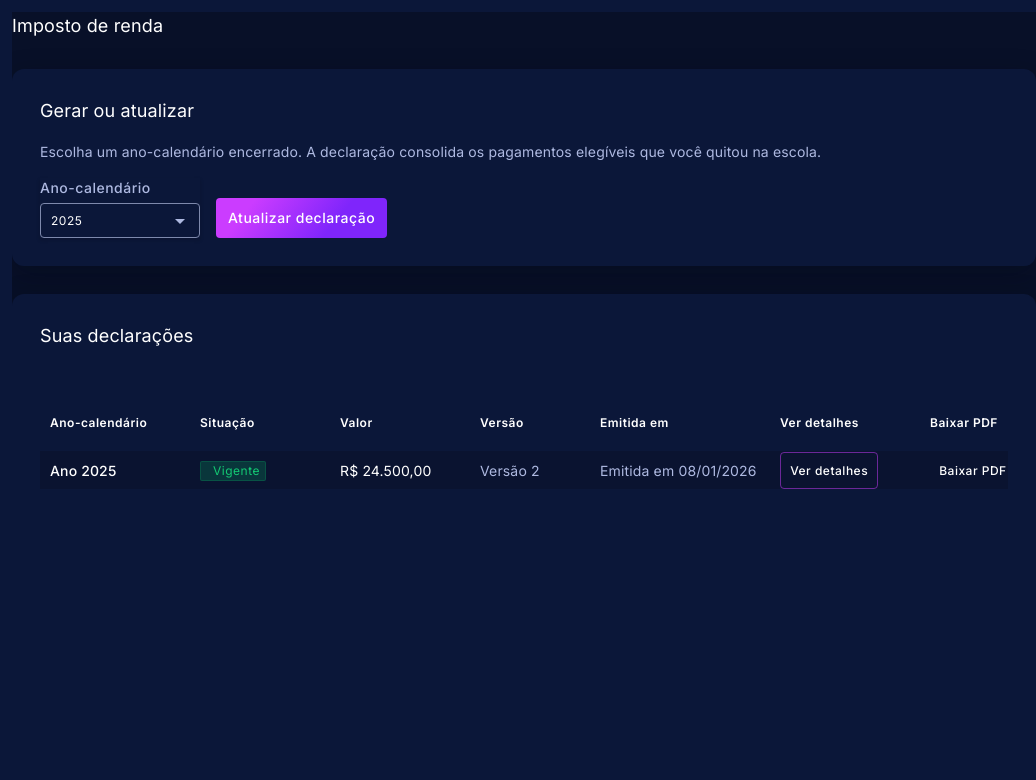
Test: MyTaxDeclarations › shows configuration incomplete state
Expected: the heading "Imposto de renda" is shown, [12, 12, 163, 41]
Click the dropdown named "ano-calendário": (67, 221) [51, 213, 82, 228]
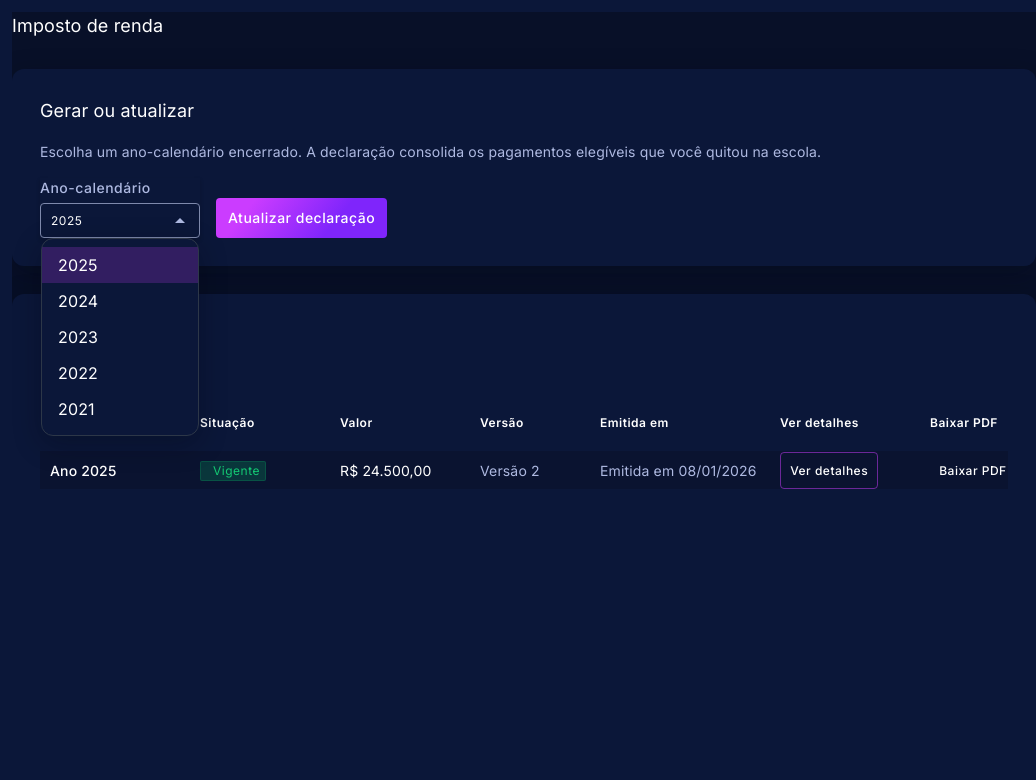
Click the option "2023": (78, 337) [58, 327, 98, 347]
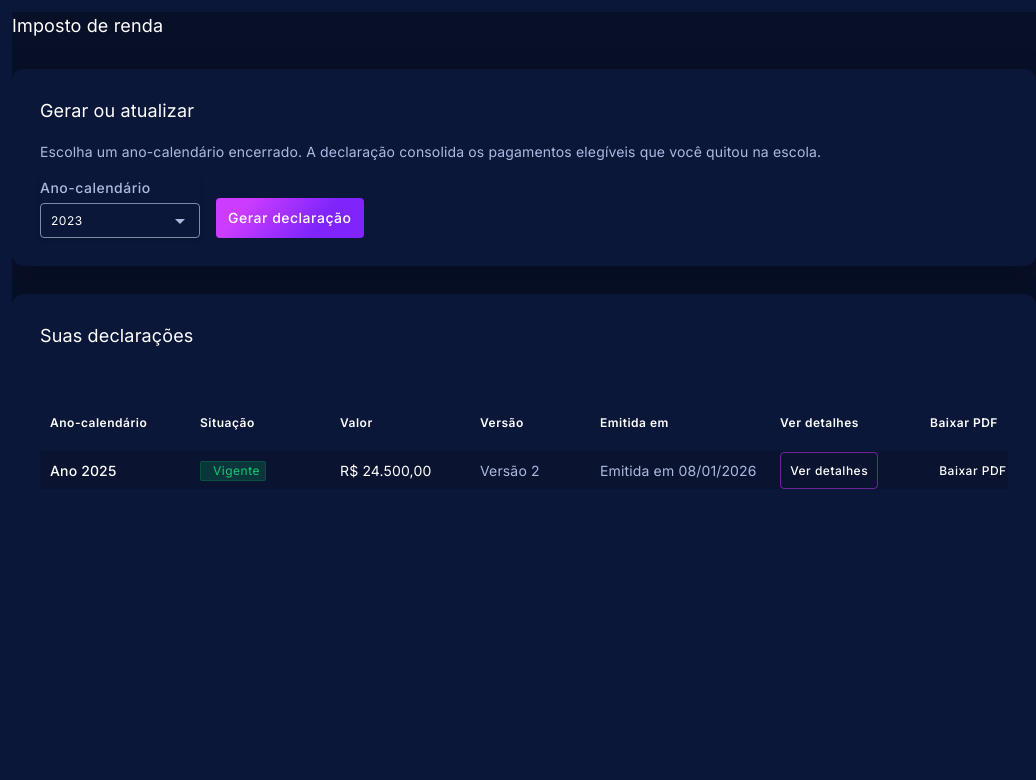
Click the button "Gerar declaração": (290, 218) [216, 198, 364, 238]
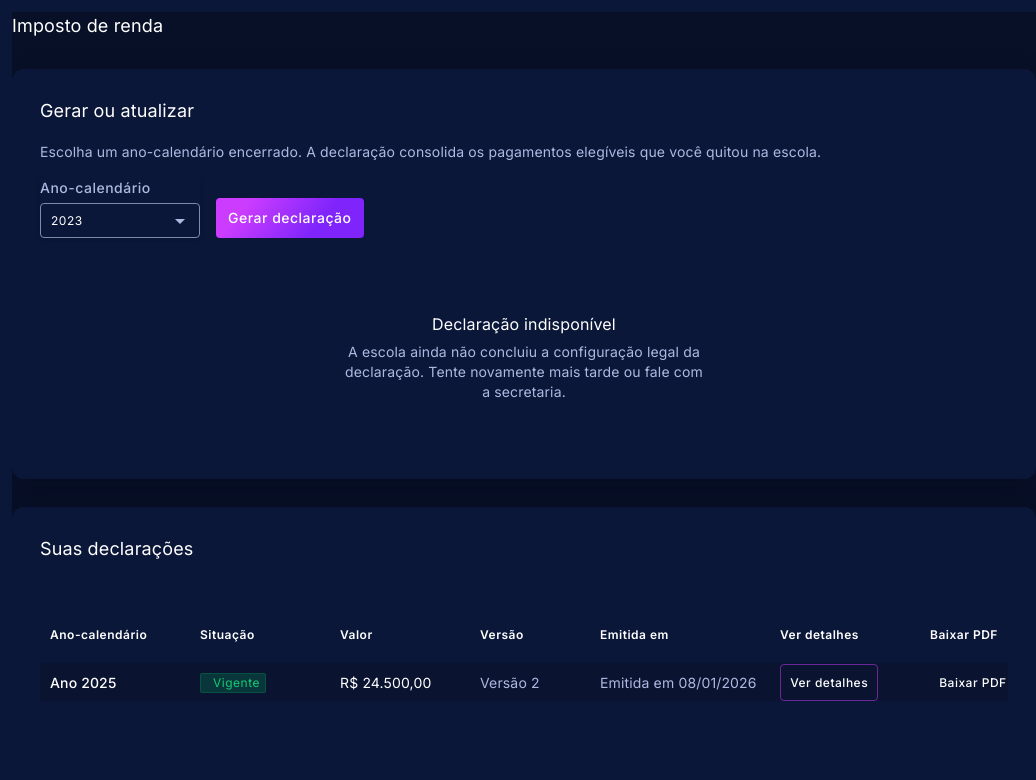
Expected: the heading "Declaração indisponível" is shown, [432, 310, 616, 338]
